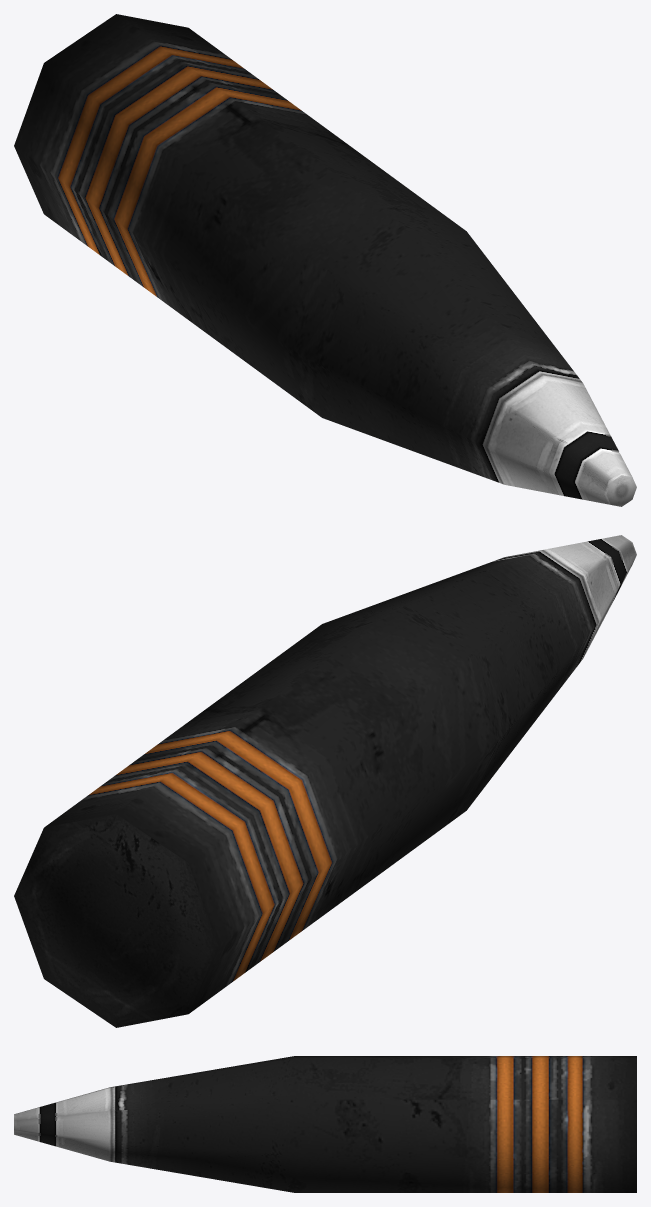
Rendered from tank_shell.gltf.
The picture shows the model from 3 angles, top to bottom: view 1: azimuth 30°, elevation 25°; view 2: azimuth 150°, elevation 25°; view 3: azimuth 270°, elevation 25°; orthographic projection. The views are drawn at different scales.
Parts seen in each view (by area): view 1: Cylinder.002; view 2: Cylinder.002; view 3: Cylinder.002.
Part boxes in pixels (bbox=[...]): Cylinder.002: bbox=[14, 14, 636, 506]; Cylinder.002: bbox=[14, 535, 636, 1027]; Cylinder.002: bbox=[14, 1056, 636, 1192].
Bounding box in the file's own units: 2 × 2 × 8.56.
Materials: 1 (1 with a texture image).
